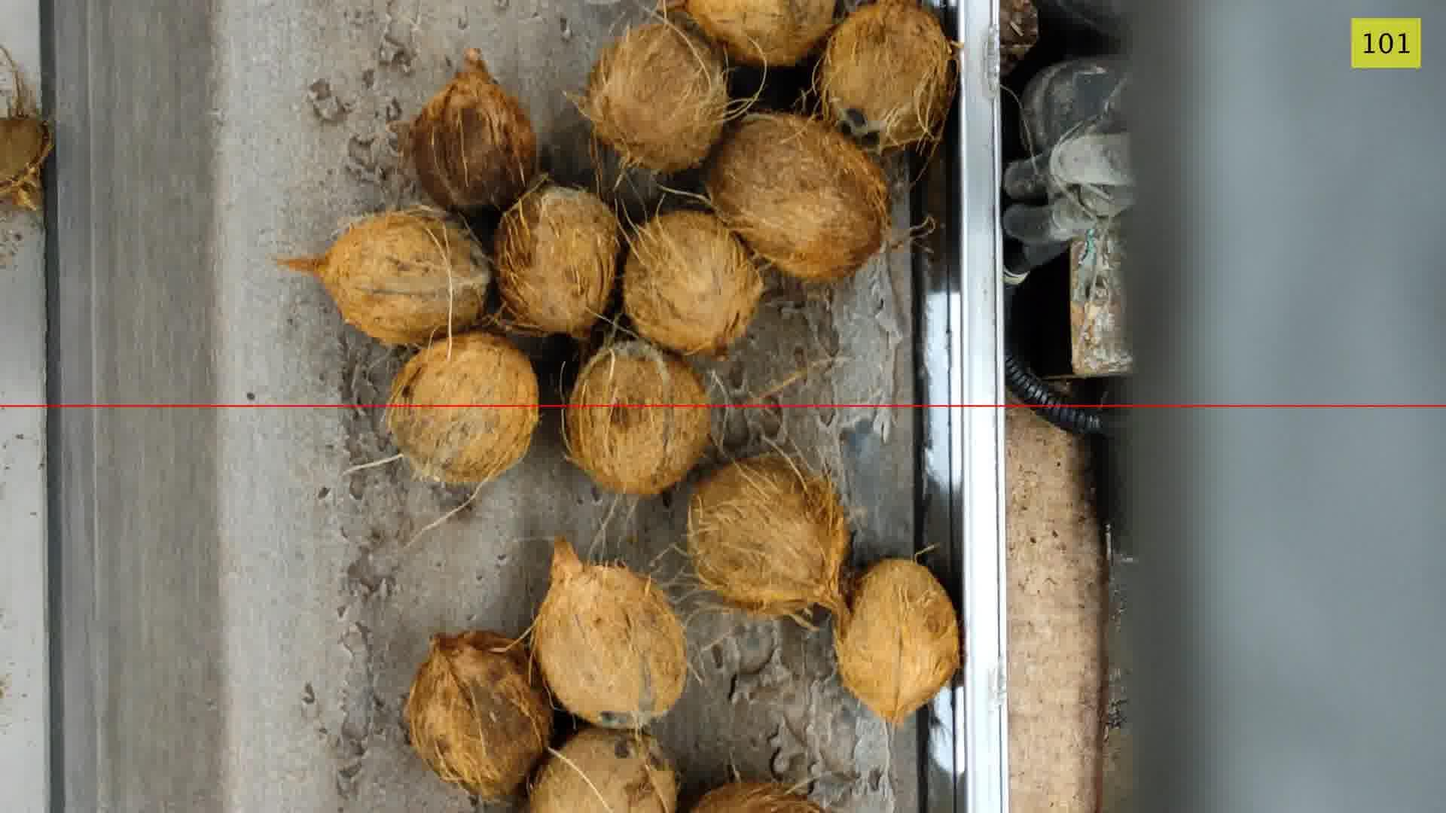Coconut: (706, 113, 891, 281), (532, 537, 687, 728), (280, 209, 492, 345), (688, 453, 850, 617), (405, 631, 552, 799), (578, 20, 731, 173), (386, 332, 538, 483), (563, 340, 710, 495), (815, 0, 957, 151), (834, 559, 961, 725), (407, 48, 537, 209), (623, 210, 764, 357), (494, 184, 621, 337), (529, 729, 677, 812), (676, 0, 835, 67), (0, 47, 53, 210), (0, 115, 53, 210), (693, 781, 825, 812)
